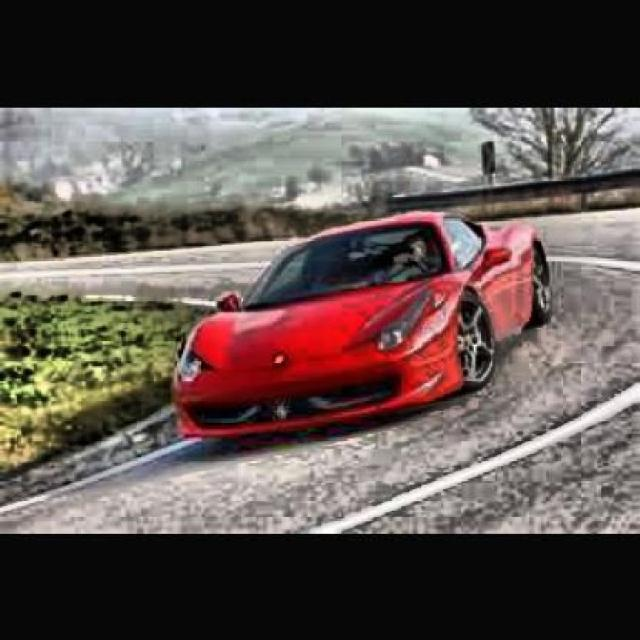red: (170, 212, 555, 438)
